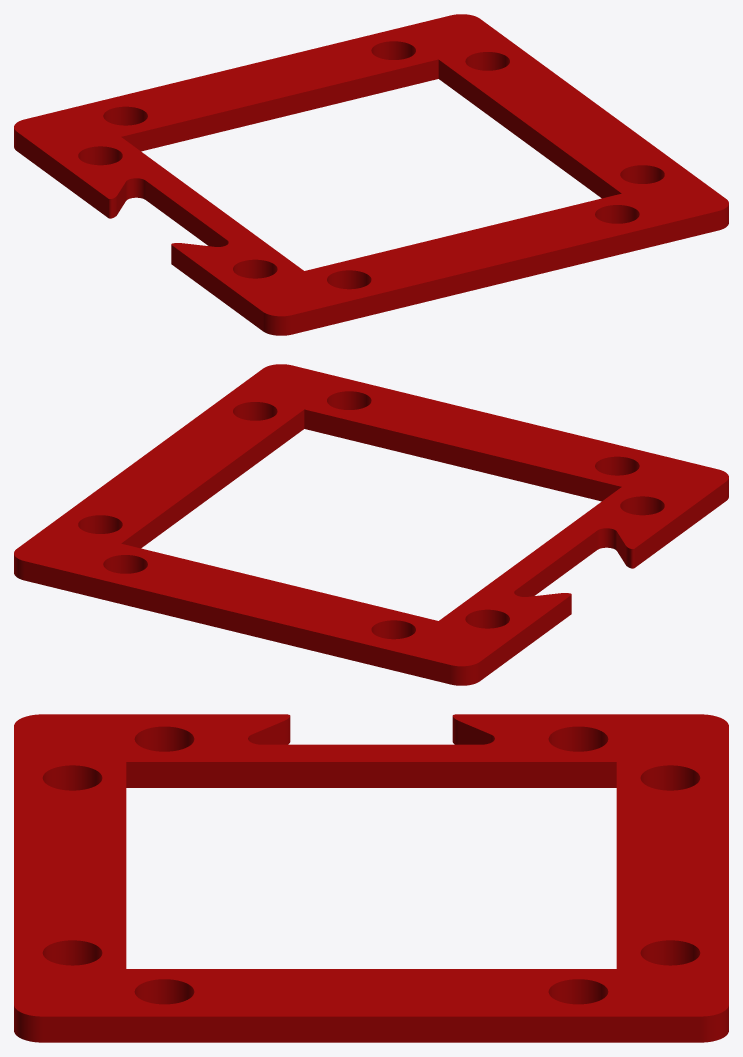
Rendered from V5_Interlinking Baseplate Pathed Female.obj.
3 views of the same model, one above another, from view 1: azimuth 30°, elevation 25°; view 2: azimuth 150°, elevation 25°; view 3: azimuth 270°, elevation 25° (orthographic). The views are drawn at different scales.
Visible parts, largest first — view 1: Solid1:40; view 2: Solid1:40; view 3: Solid1:40.
Part boxes in pixels (<box>): Solid1:40: <box>14,14,728,335</box>; Solid1:40: <box>14,364,728,685</box>; Solid1:40: <box>14,714,728,1042</box>.
Size of the model in its own units: 49.75 by 2 by 49.75.
